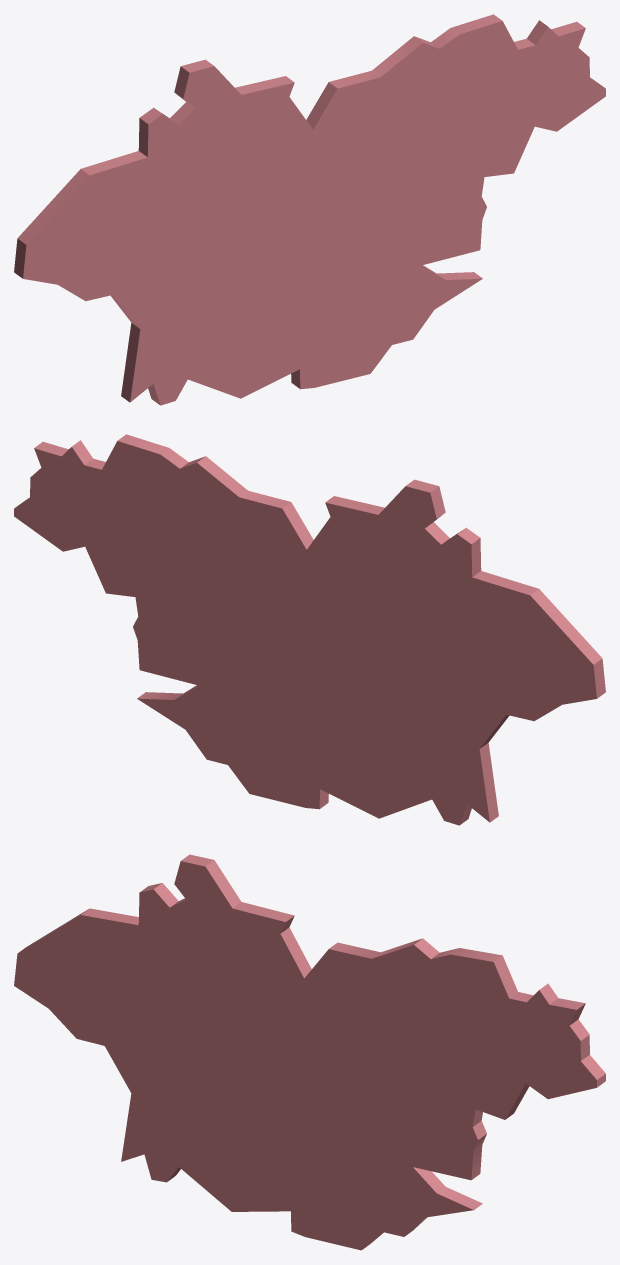
The model's file is durango.fbx.
The picture shows the model from 3 angles, top to bottom: view 1: azimuth 30°, elevation 25°; view 2: azimuth 150°, elevation 25°; view 3: azimuth 330°, elevation 25°; orthographic projection.
Parts seen in each view (by area): view 1: durango; view 2: durango; view 3: durango.
Part boxes in pixels (x1,y1,x2,y2): durango: [14, 14, 605, 405]; durango: [14, 434, 605, 825]; durango: [14, 854, 605, 1250].
Bounding box in the file's own units: 299 × 170 × 8.
